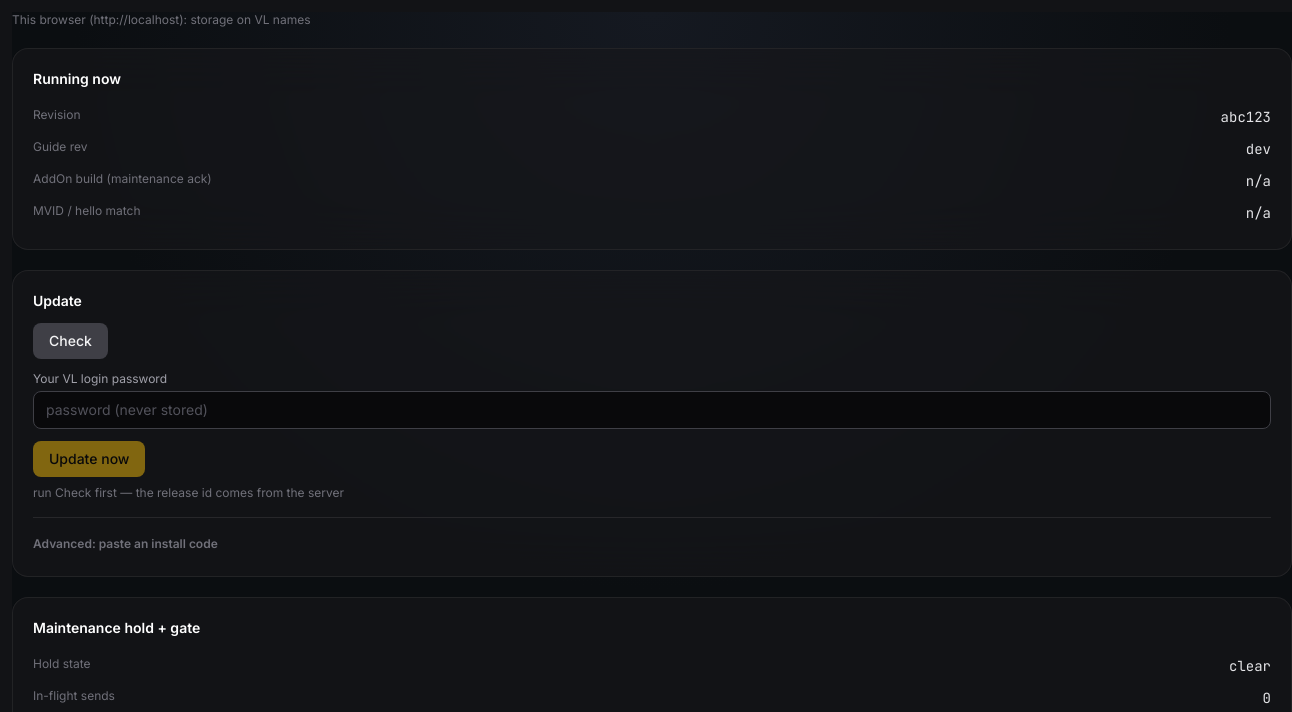
Test: UpdatesPage › shows "Update available vX — verified" when check affirms it
Check: the button "Update now" is shown, box top-left (33, 441), bottom-right (146, 477)
Click the button with test id "check-button": point(70, 341) top-left (33, 323), bottom-right (108, 359)
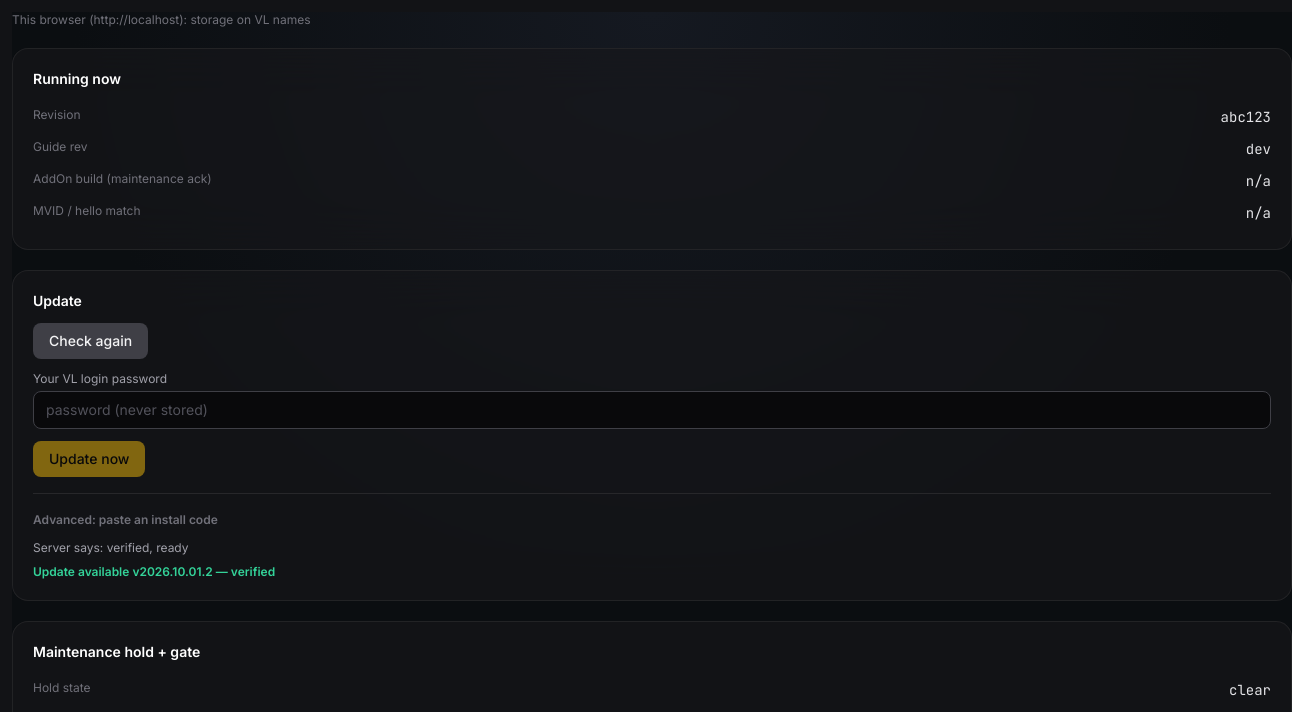
Check: the text with test id "update-available" shows "v2026.10.01.2", box top-left (33, 564), bottom-right (275, 579)
